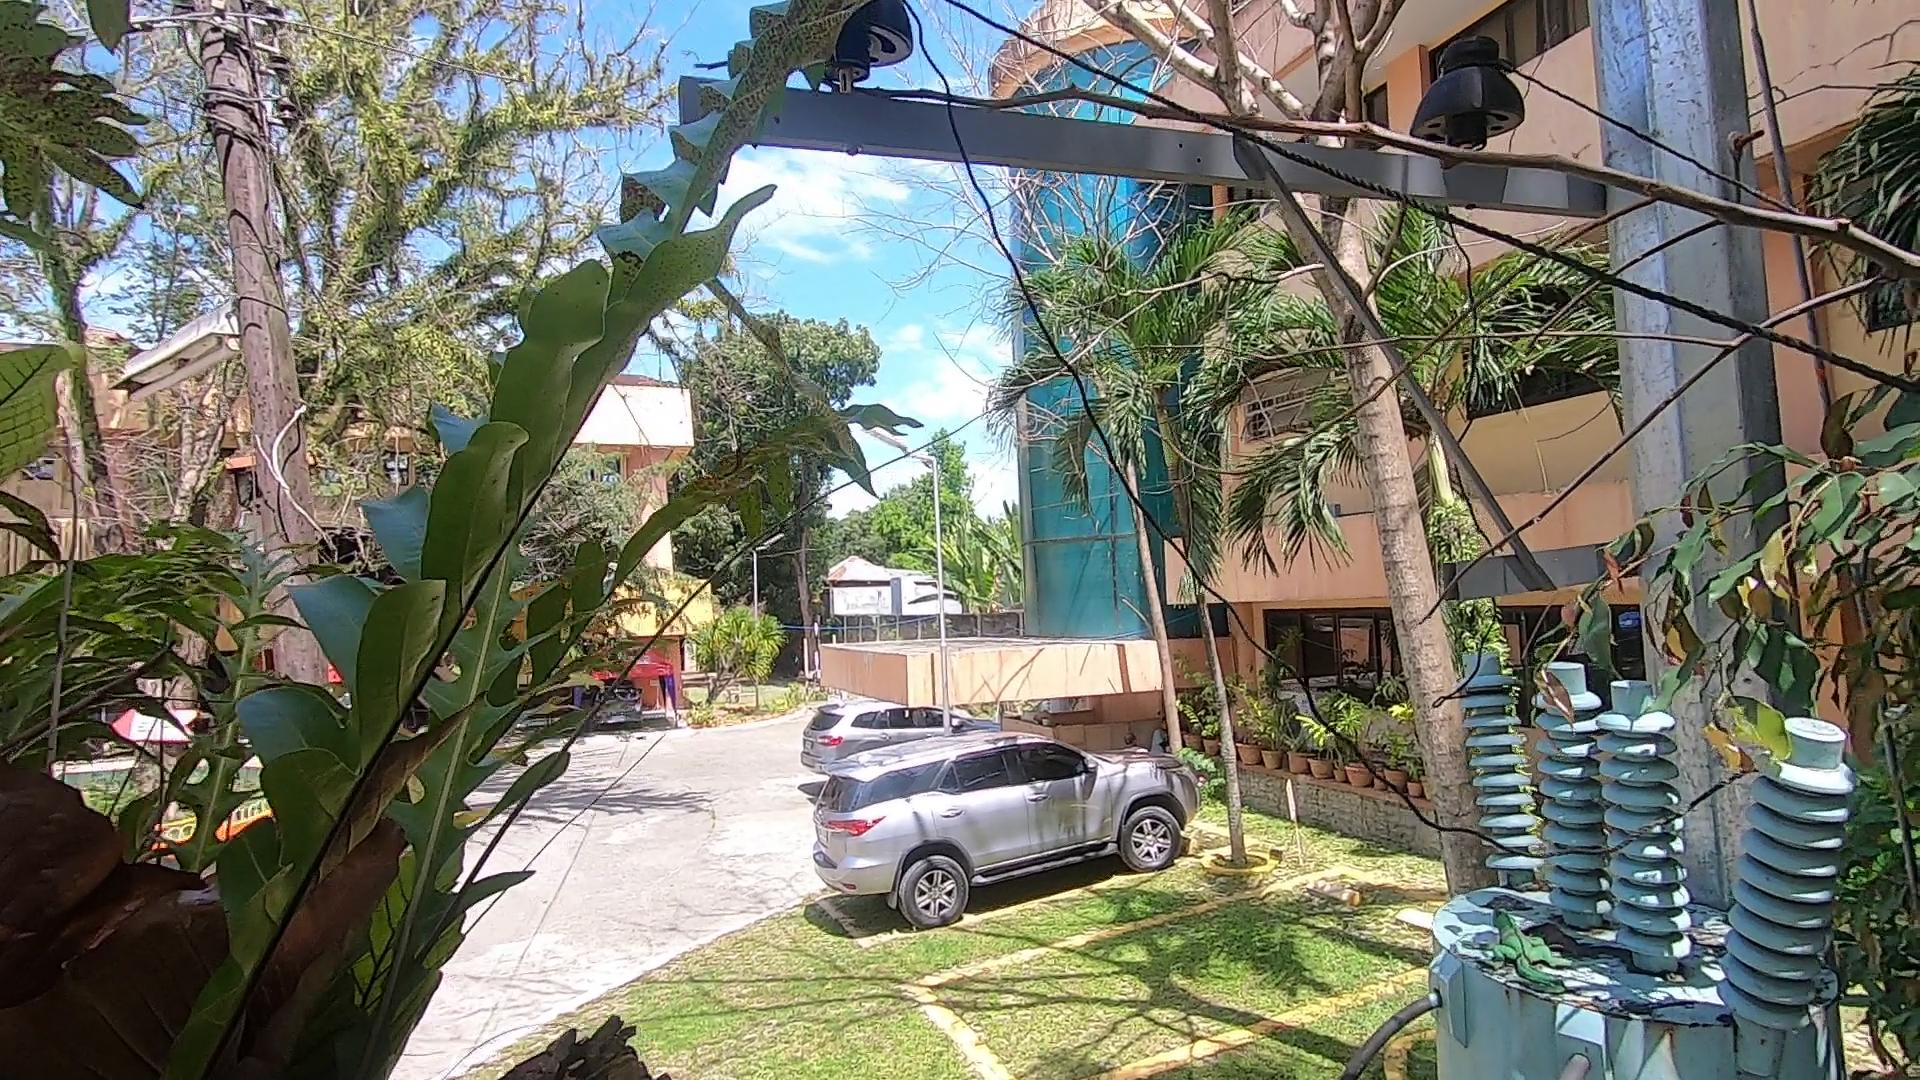leaf: (1527, 905, 1615, 951)
tree branch: (688, 38, 1920, 613)
